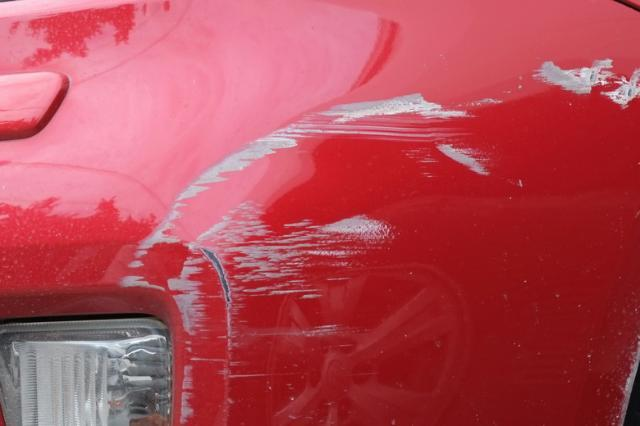Fender: (49, 25, 640, 426)
